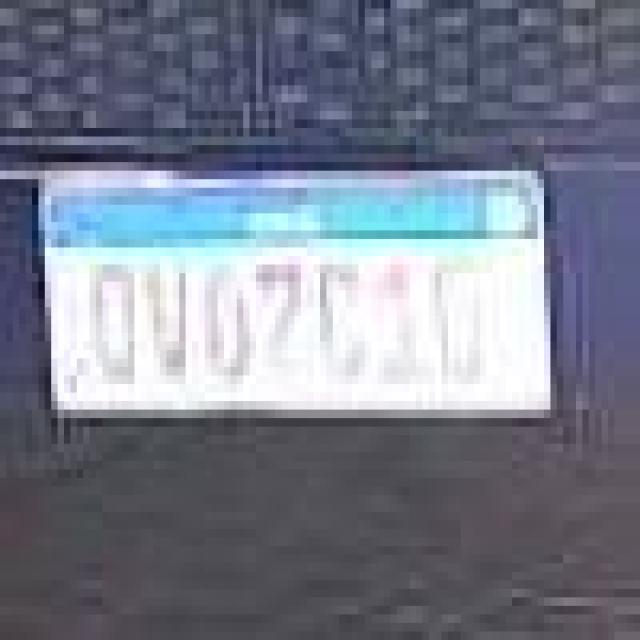0: (201, 262, 249, 386)
7: (250, 260, 304, 386)
C: (321, 252, 372, 390)
Q: (92, 254, 136, 394)
U: (146, 252, 192, 386)
